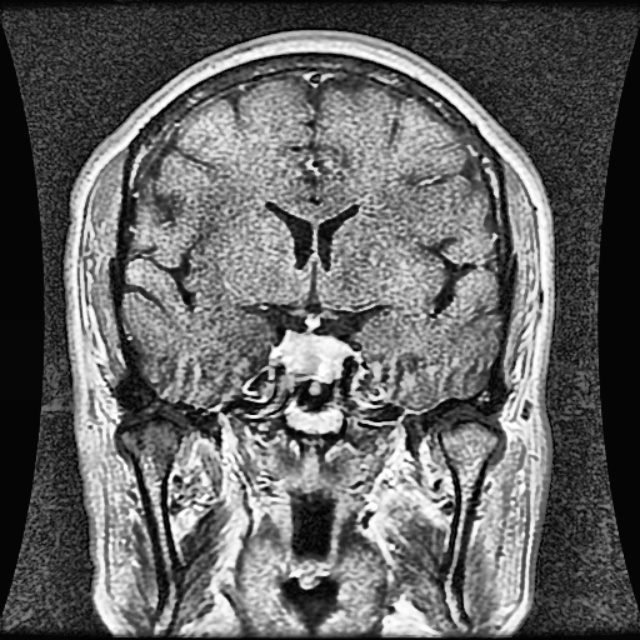Pituitary: (270, 332, 347, 379)
